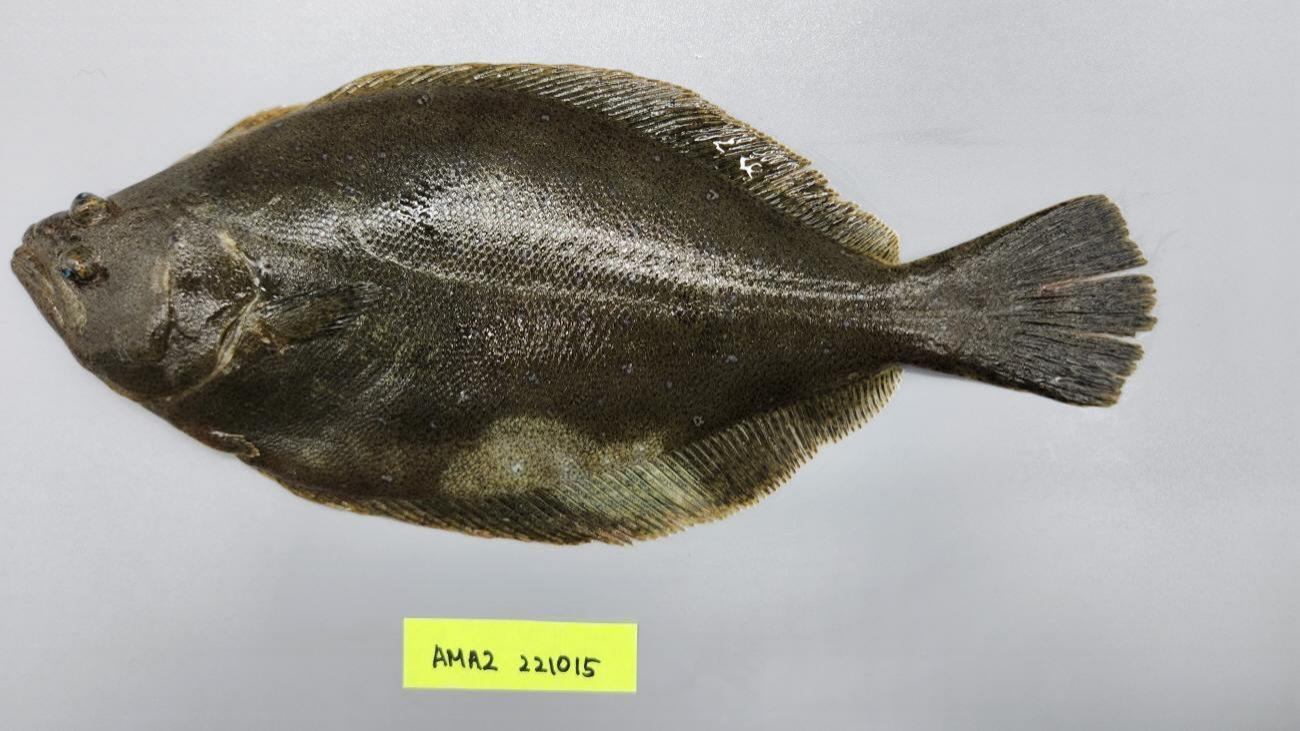MAFCH: (1009, 247, 1157, 300)
MAFDH: (732, 146, 836, 216)
MAOUY: (12, 62, 1156, 548)
